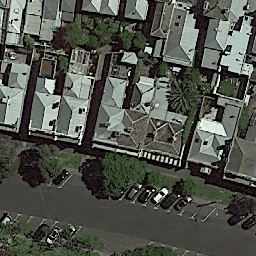car: (125, 181, 144, 201), (226, 209, 248, 226), (151, 186, 170, 205), (173, 193, 193, 211), (161, 191, 179, 210), (31, 222, 48, 242), (138, 185, 156, 203), (52, 168, 69, 186), (46, 225, 62, 244), (240, 215, 256, 231), (63, 224, 77, 239), (1, 215, 12, 230)
